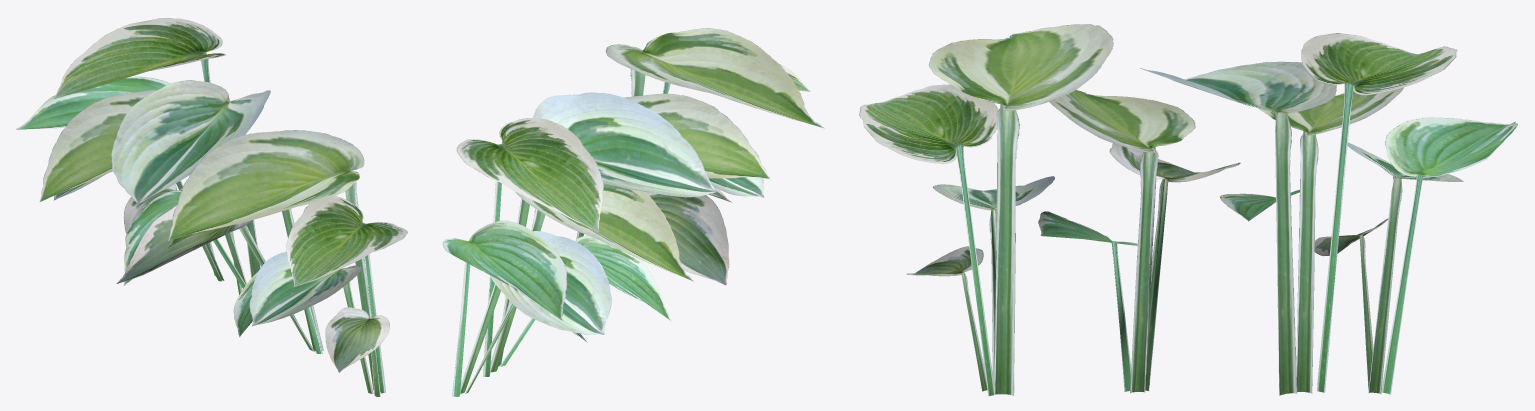
Rendered from plant_small_wg_00_line_02.fbx.
3 views of the same model, side by side, from view 1: azimuth 30°, elevation 25°; view 2: azimuth 150°, elevation 25°; view 3: azimuth 270°, elevation 25° (orthographic). The views are drawn at different scales.
Visible parts, largest first — view 1: plant_small_wg_00_line_02; view 2: plant_small_wg_00_line_02; view 3: plant_small_wg_00_line_02.
Part boxes in pixels (x1=…): plant_small_wg_00_line_02: x1=16, y1=18, x2=407, y2=396; plant_small_wg_00_line_02: x1=442, y1=28, x2=824, y2=396; plant_small_wg_00_line_02: x1=859, y1=24, x2=1517, y2=396.
Bounding box in the file's own units: 33.88 × 39.25 × 75.18.
Materials: 1 (1 with a texture image).
